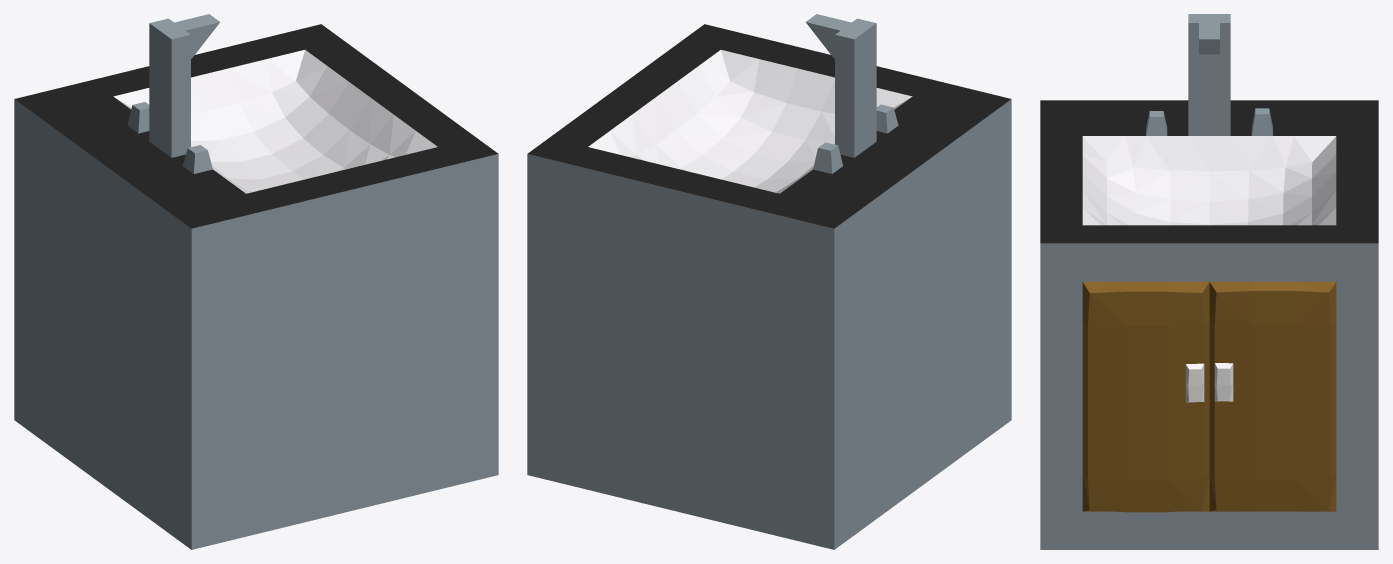
The model's file is sinkTest.dae.
3 views of the same model, side by side, from view 1: azimuth 30°, elevation 25°; view 2: azimuth 150°, elevation 25°; view 3: azimuth 270°, elevation 25° (orthographic). The views are drawn at different scales.
Visible parts, largest first — view 1: Cube_001; view 2: Cube_001; view 3: Cube_001.
Boxes of the visible parts, x1,y1,x2,y2 form: Cube_001: [14, 14, 498, 549]; Cube_001: [527, 14, 1011, 549]; Cube_001: [1040, 14, 1378, 549].
Bounding box in the file's own units: 2.11 × 2 × 2.74.
